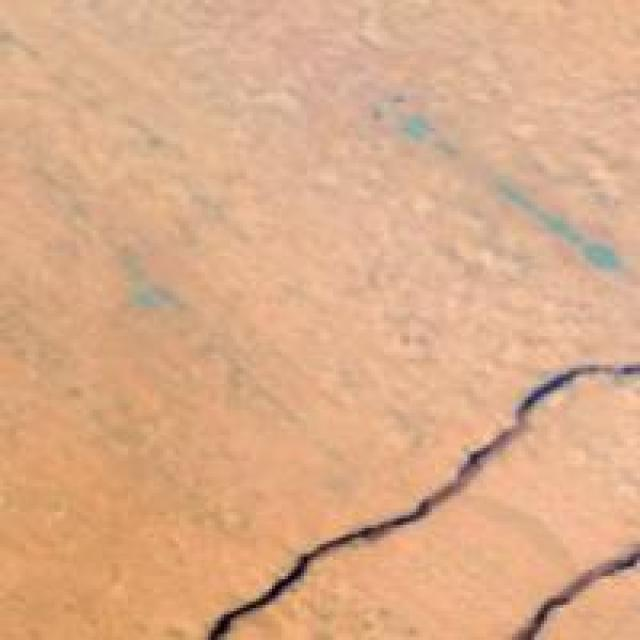crack: (186, 349, 636, 637)
